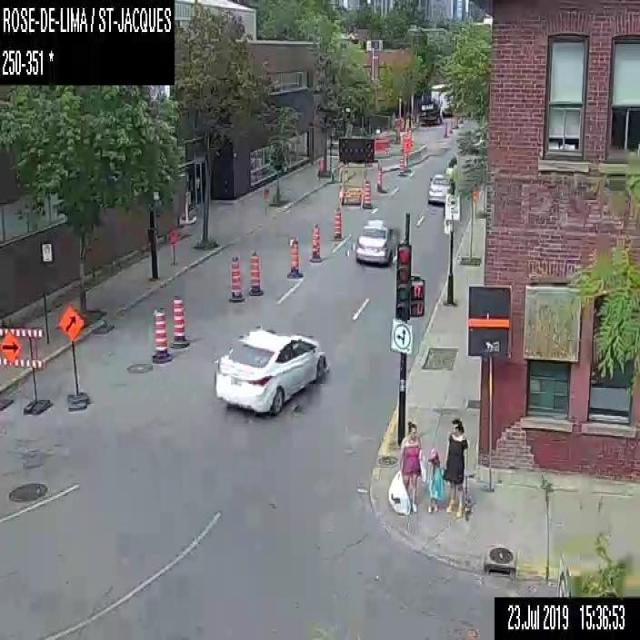construction: (0, 326, 51, 414), (54, 301, 92, 409), (336, 132, 375, 191), (148, 299, 174, 363), (170, 294, 191, 350), (226, 252, 246, 303), (247, 246, 265, 296), (284, 233, 302, 279), (309, 221, 320, 263), (331, 210, 343, 242), (402, 133, 411, 170), (362, 182, 371, 210), (376, 139, 388, 157), (398, 156, 408, 177), (261, 184, 268, 210), (376, 166, 382, 195), (317, 158, 324, 180), (169, 230, 176, 246), (394, 117, 401, 128), (0, 350, 3, 358), (0, 336, 3, 344)
pedestrian: (387, 418, 423, 514), (442, 419, 472, 519), (425, 447, 443, 513)
vehicle: (215, 324, 330, 416), (354, 216, 399, 265), (426, 171, 450, 205)
